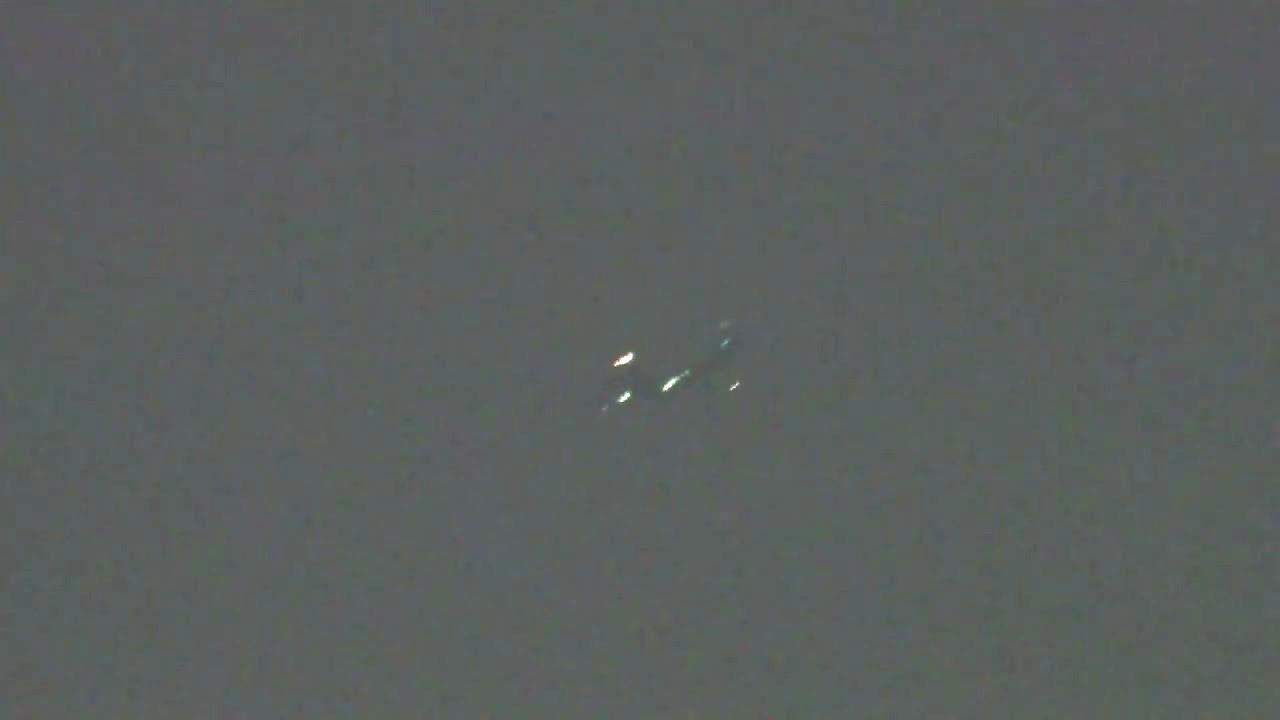Plane: (567, 339, 806, 400)
